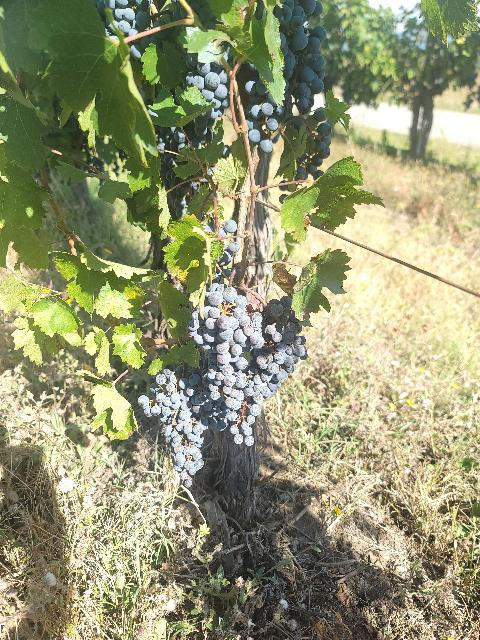grapes: (231, 296, 306, 446), (188, 282, 264, 402), (138, 369, 208, 488), (274, 0, 326, 114)
